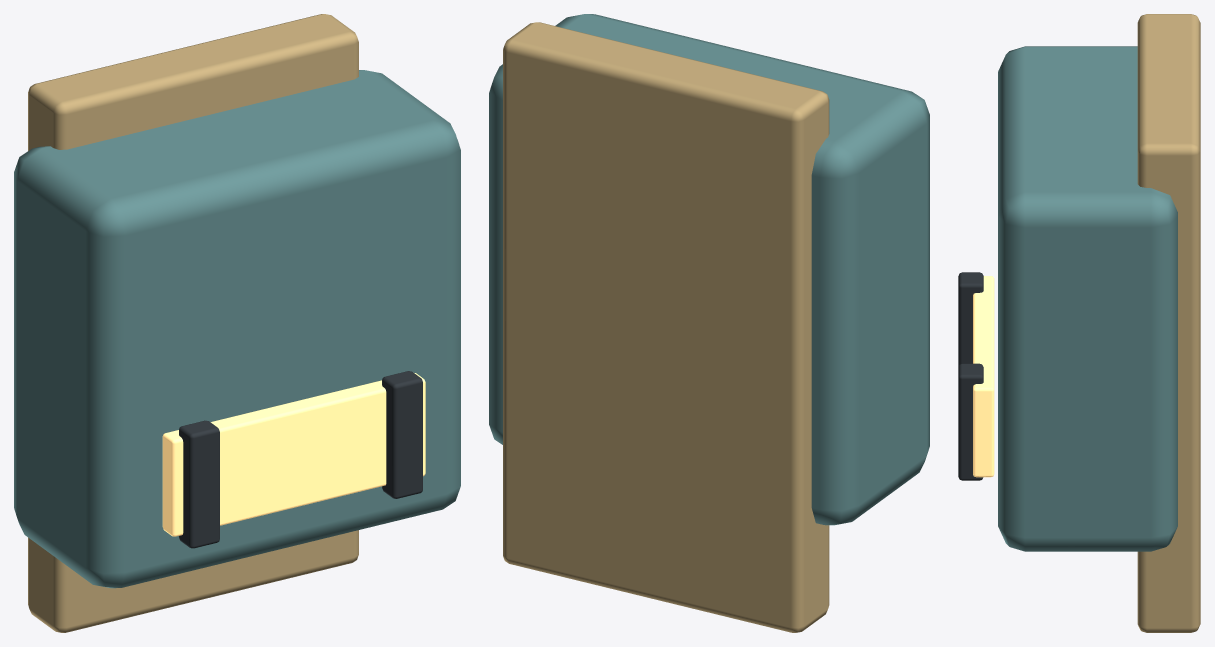
3 views of the same model, side by side, from view 1: azimuth 30°, elevation 25°; view 2: azimuth 150°, elevation 25°; view 3: azimuth 270°, elevation 25° (orthographic). The views are drawn at different scales.
Visible parts, largest first — view 1: abandoned-cinema-and-projection-booth-wall-aisle-lamp; view 2: abandoned-cinema-and-projection-booth-wall-aisle-lamp; view 3: abandoned-cinema-and-projection-booth-wall-aisle-lamp.
Part boxes in pixels (x1,y1,x2,y2): abandoned-cinema-and-projection-booth-wall-aisle-lamp: [14, 14, 460, 632]; abandoned-cinema-and-projection-booth-wall-aisle-lamp: [489, 14, 929, 632]; abandoned-cinema-and-projection-booth-wall-aisle-lamp: [958, 14, 1200, 632].
Size of the model in its own units: 0.22 by 0.3 by 0.1345.
